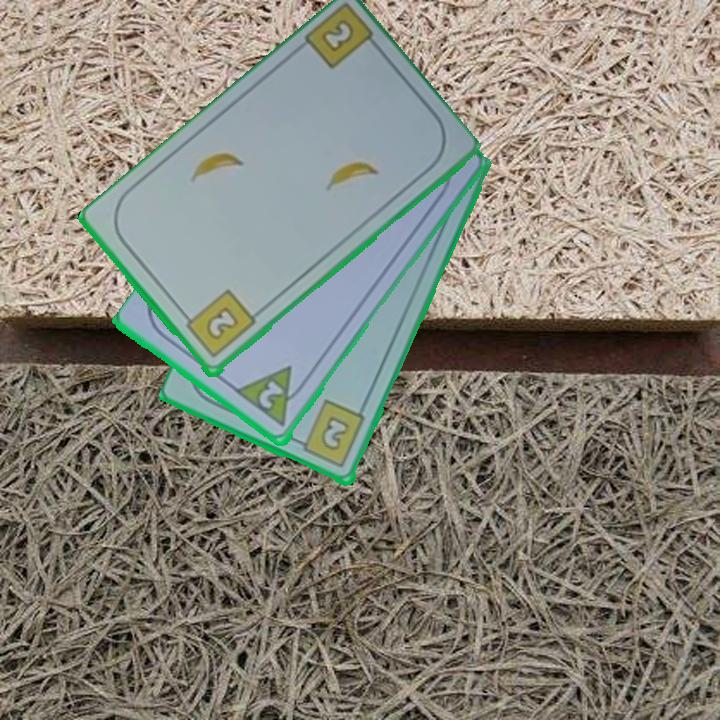2b: (179, 286, 259, 361), (300, 3, 385, 73), (292, 397, 368, 471)
2p: (233, 362, 311, 431)
